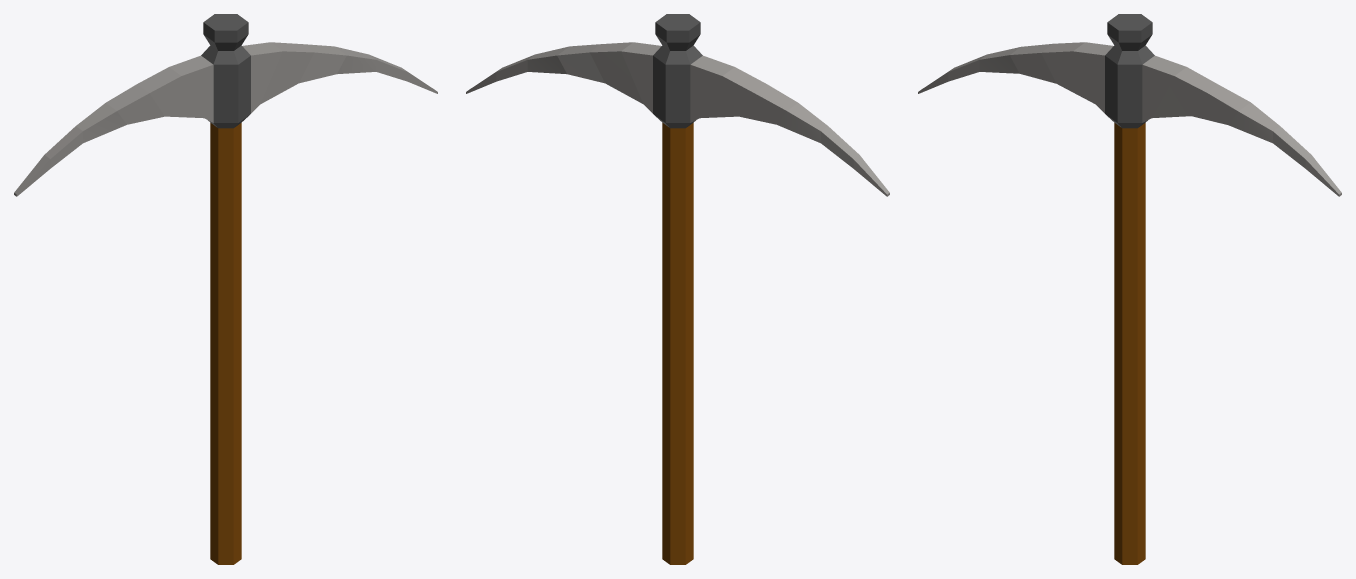
The model's file is Pickaxe.fbx.
3 views of the same model, side by side, from view 1: azimuth 30°, elevation 25°; view 2: azimuth 150°, elevation 25°; view 3: azimuth 330°, elevation 25° (orthographic).
Parts seen in each view (by area): view 1: Cylinder233; view 2: Cylinder233; view 3: Cylinder233.
Part boxes in pixels (x1=…): Cylinder233: x1=14, y1=14, x2=437, y2=564; Cylinder233: x1=466, y1=14, x2=889, y2=564; Cylinder233: x1=918, y1=14, x2=1341, y2=564.
Size of the model in its own units: 60.21 by 73.37 by 6.19.
